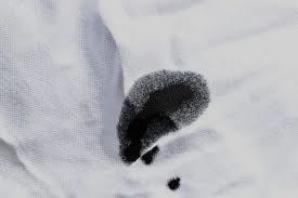ink: (117, 69, 208, 163), (166, 176, 182, 192)
